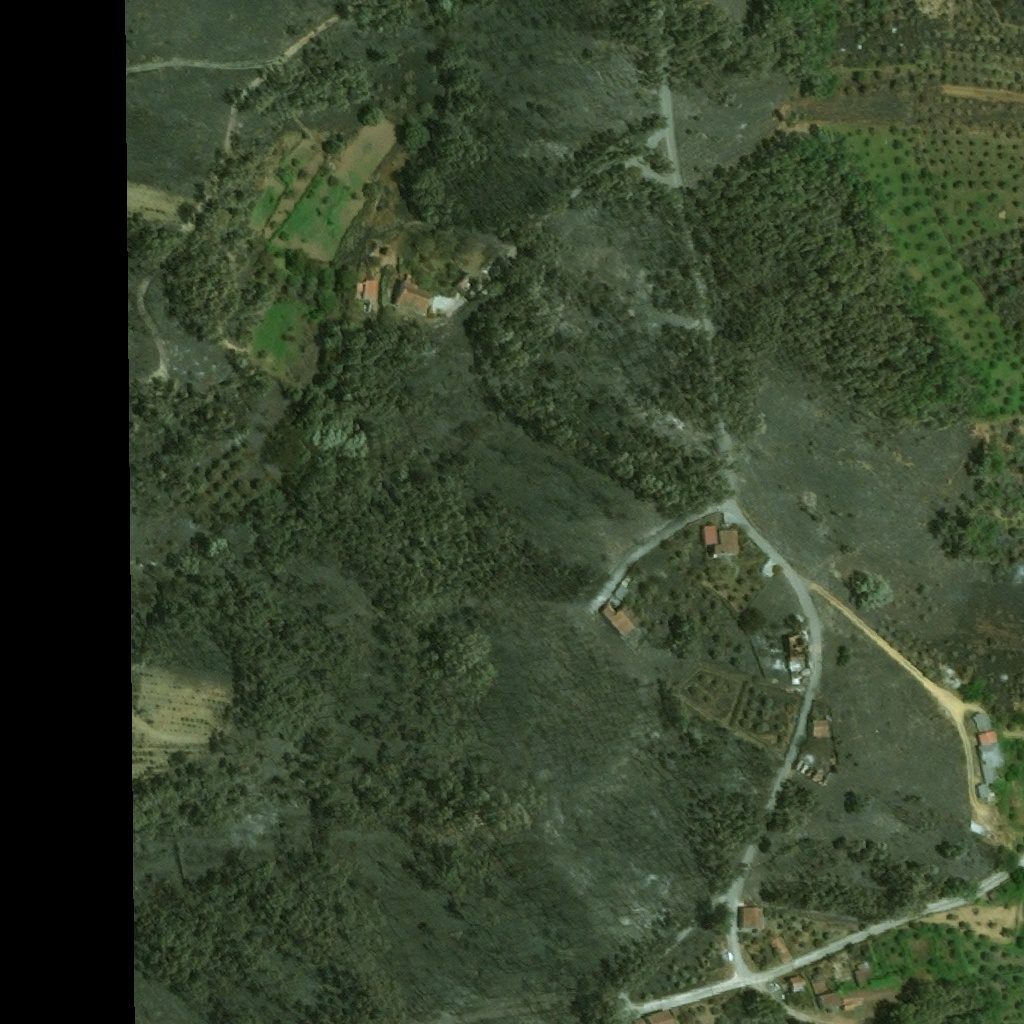0 no-damage: (972, 712, 1007, 798), (394, 274, 433, 316), (601, 601, 644, 639), (840, 984, 899, 1011), (713, 528, 738, 556), (738, 906, 764, 930), (353, 280, 379, 304), (818, 990, 842, 1015), (635, 1010, 678, 1023), (812, 968, 830, 995), (853, 962, 871, 987), (613, 582, 631, 601), (702, 524, 718, 544), (789, 976, 806, 993), (368, 244, 385, 260)
1 minor-damage: (809, 718, 827, 738)
2 major-damage: (454, 267, 485, 297)
3 destroyed: (787, 633, 811, 677), (794, 758, 826, 788)
